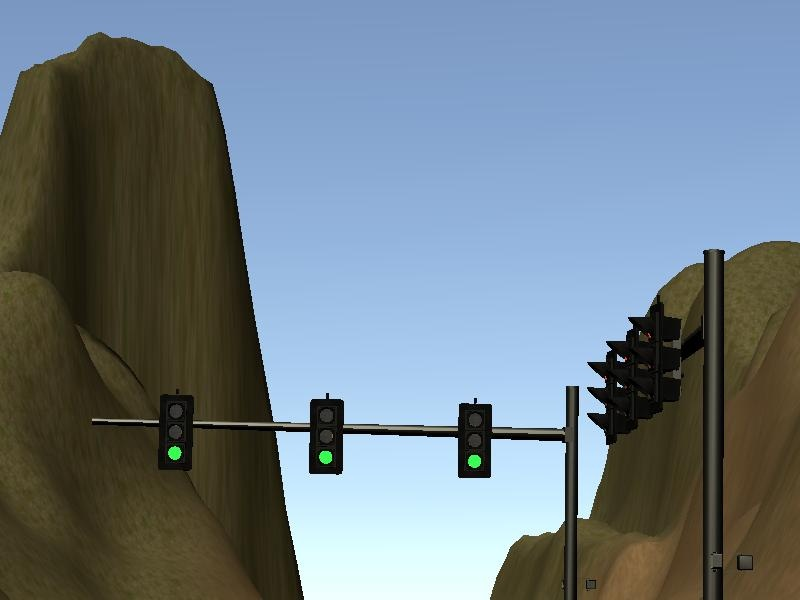green: (309, 396, 343, 475), (160, 393, 194, 470), (457, 400, 490, 476)
